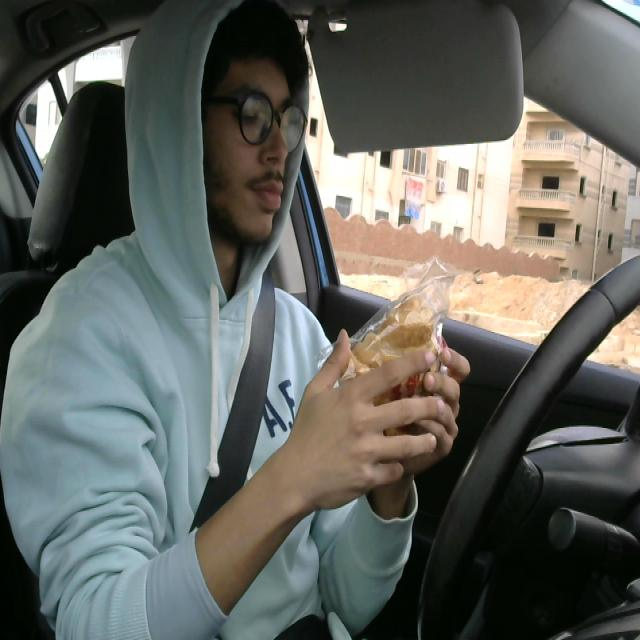eating: (316, 254, 458, 472)
